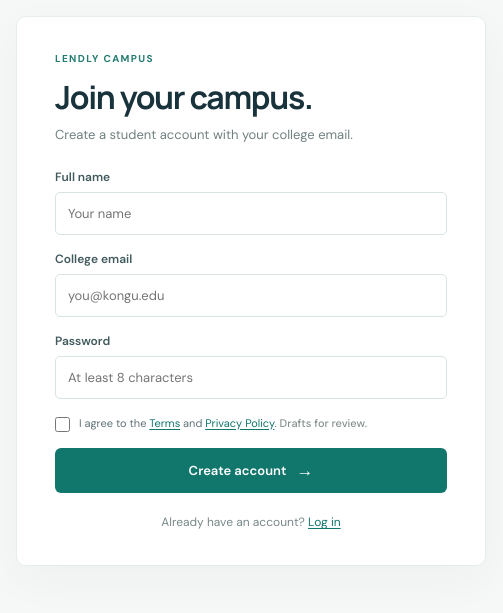
Test: does not submit signup when the policy checkbox is not selected
The image size is (503, 613).
In the field labelled "Full name": (251, 213) [55, 192, 447, 235], type "Ada Student"
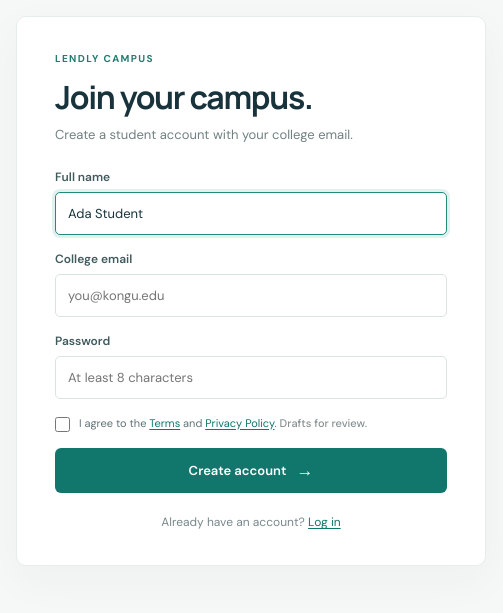
In the field labelled "College email": (251, 295) [55, 274, 447, 317], type "ada@kongu.edu"
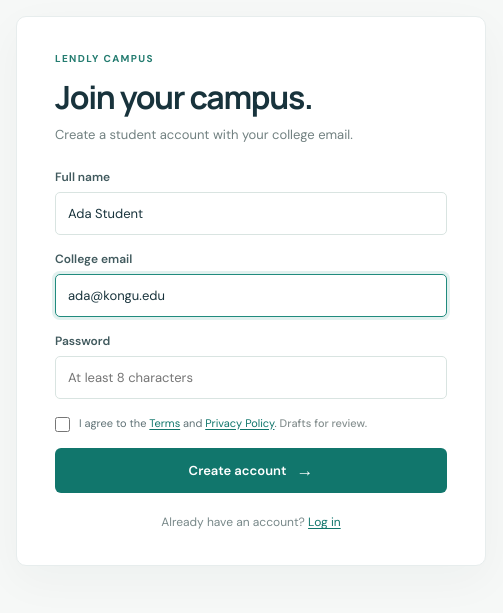
In the password field labelled "Password": (251, 377) [55, 356, 447, 399], type "safe-password-123"
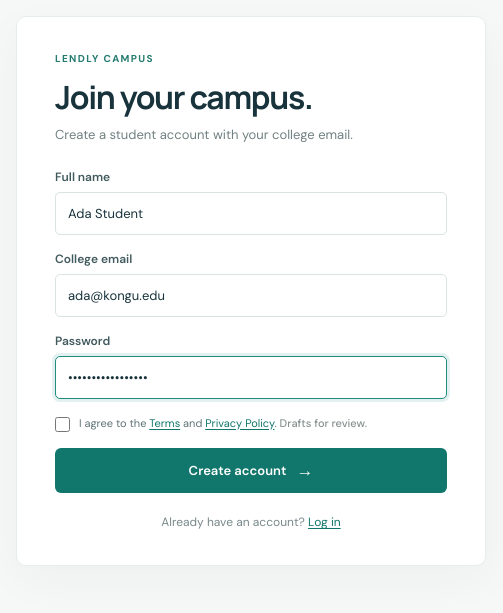
Click the button "Create account →": (251, 471) [55, 448, 447, 493]
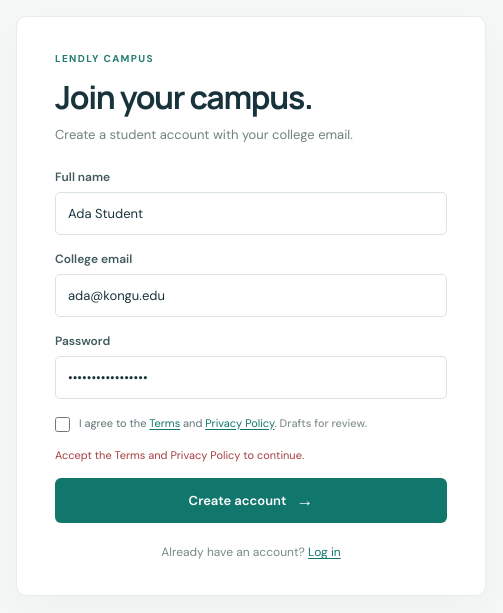
Expected: the message reads "Accept the Terms and Privacy Policy to continue.", [55, 448, 304, 462]
